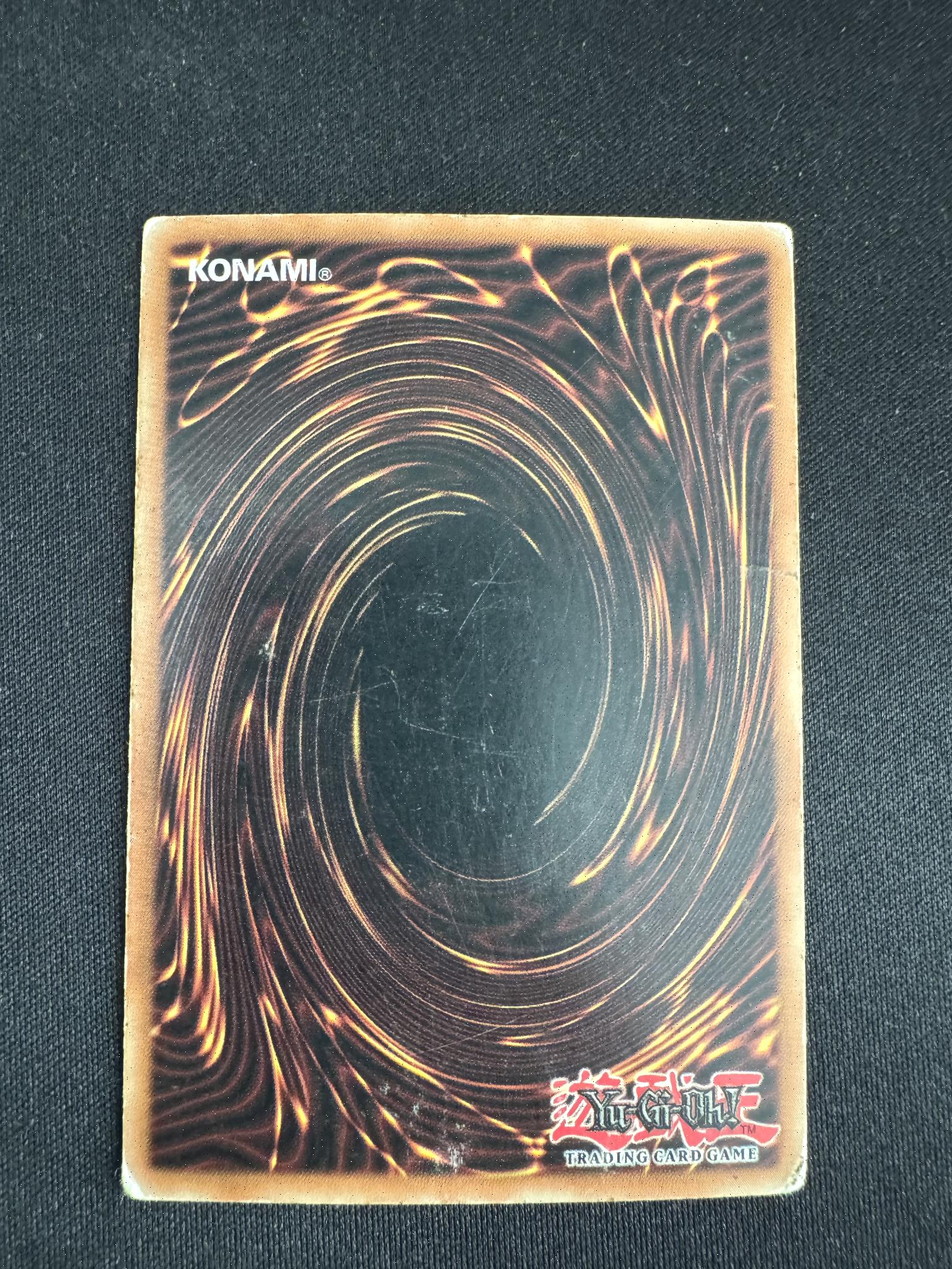card-2UtV: (121, 213, 807, 1205)
